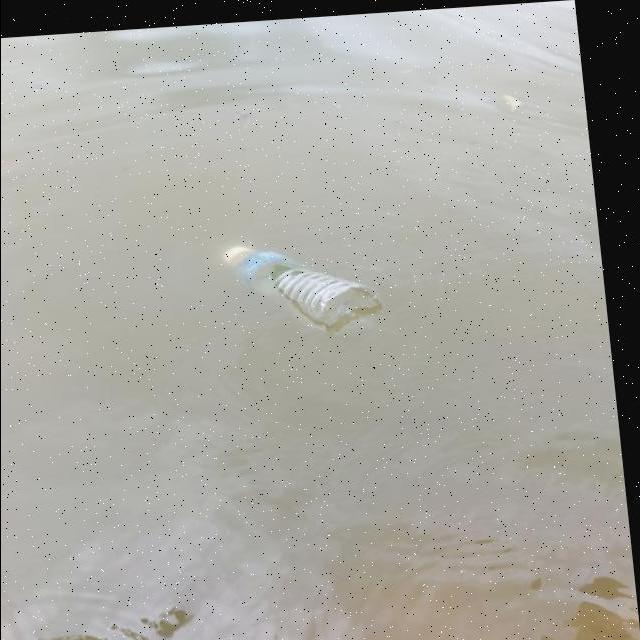Bottle: (205, 224, 383, 328)
